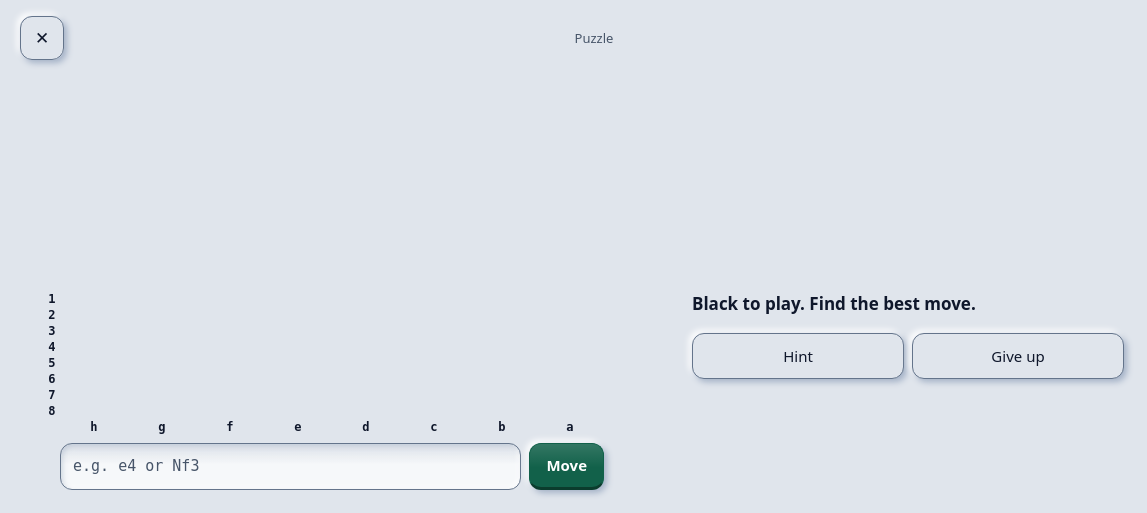
PuzzlePlayer › after finishing, the rating and themes are shown
Type "h1h2" into the field named "Type a move" at [291, 466], box [60, 442, 522, 490]
Then press Enter
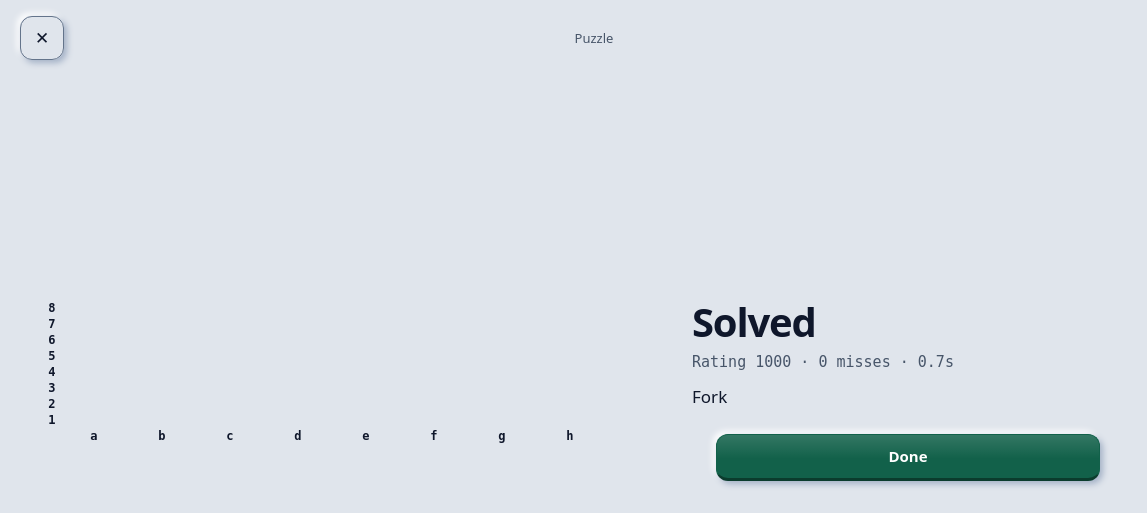
Result: the text "Rating 1000 · 0 misses · 0.7s" is shown at [692, 352, 954, 370]
Result: the text "Fork" is shown at [692, 384, 727, 408]
